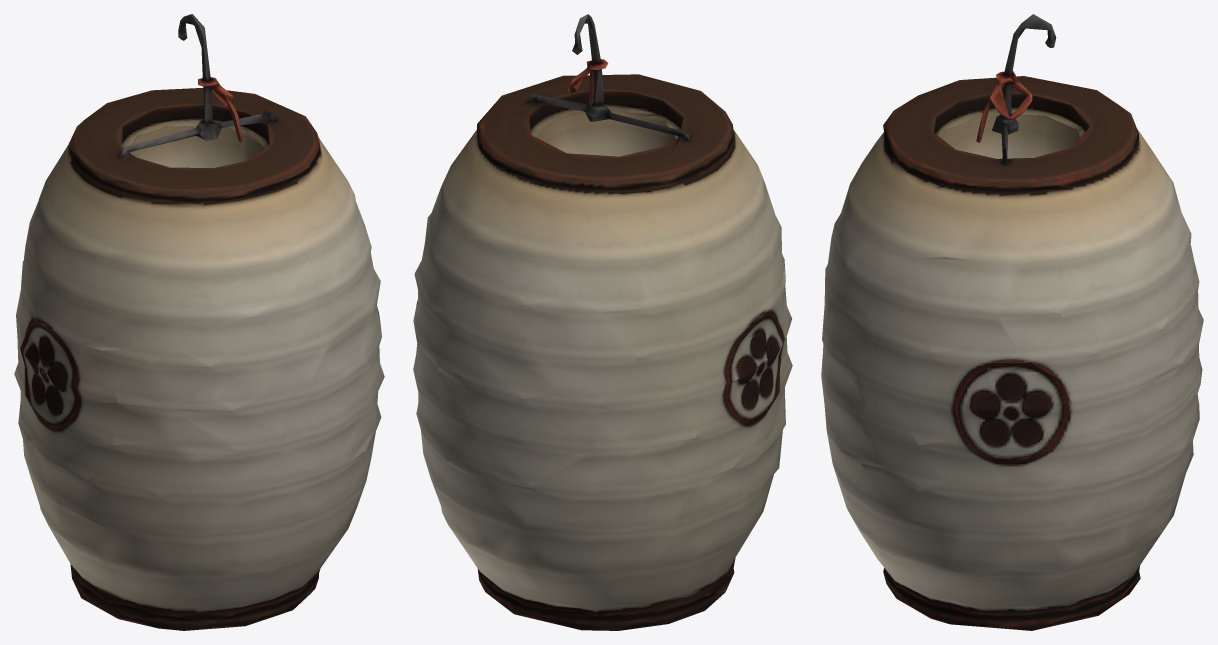
The model's file is hip_lantern.glb.
3 renders of one model, left to right at view 1: azimuth 30°, elevation 25°; view 2: azimuth 150°, elevation 25°; view 3: azimuth 270°, elevation 25°, orthographic. The views are drawn at different scales.
Parts seen in each view (by area): view 1: hip_lantern_LOD0; view 2: hip_lantern_LOD0; view 3: hip_lantern_LOD0.
Boxes of the visible parts, x1,y1,x2,y2 form: hip_lantern_LOD0: (14,14,384,630); hip_lantern_LOD0: (413,14,792,630); hip_lantern_LOD0: (821,14,1203,630).
Size of what is drawn, in the model's own units: 0.1266 by 0.2179 by 0.1294.
5 materials, 5 textured.
